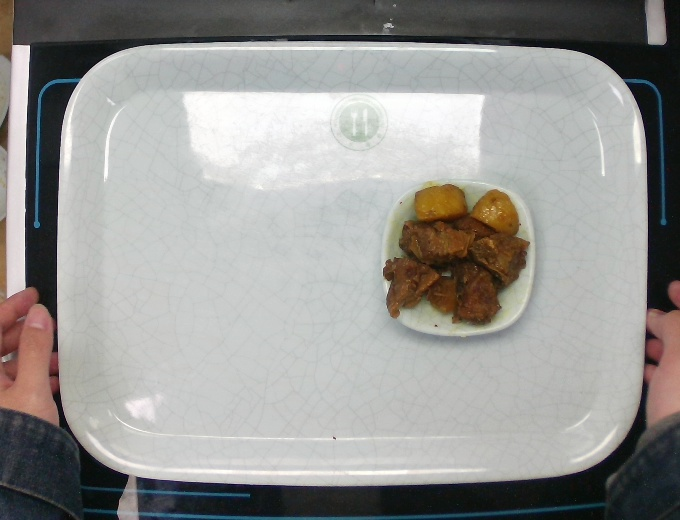JYsf-Si_Fang_Die: (376, 170, 538, 342)
